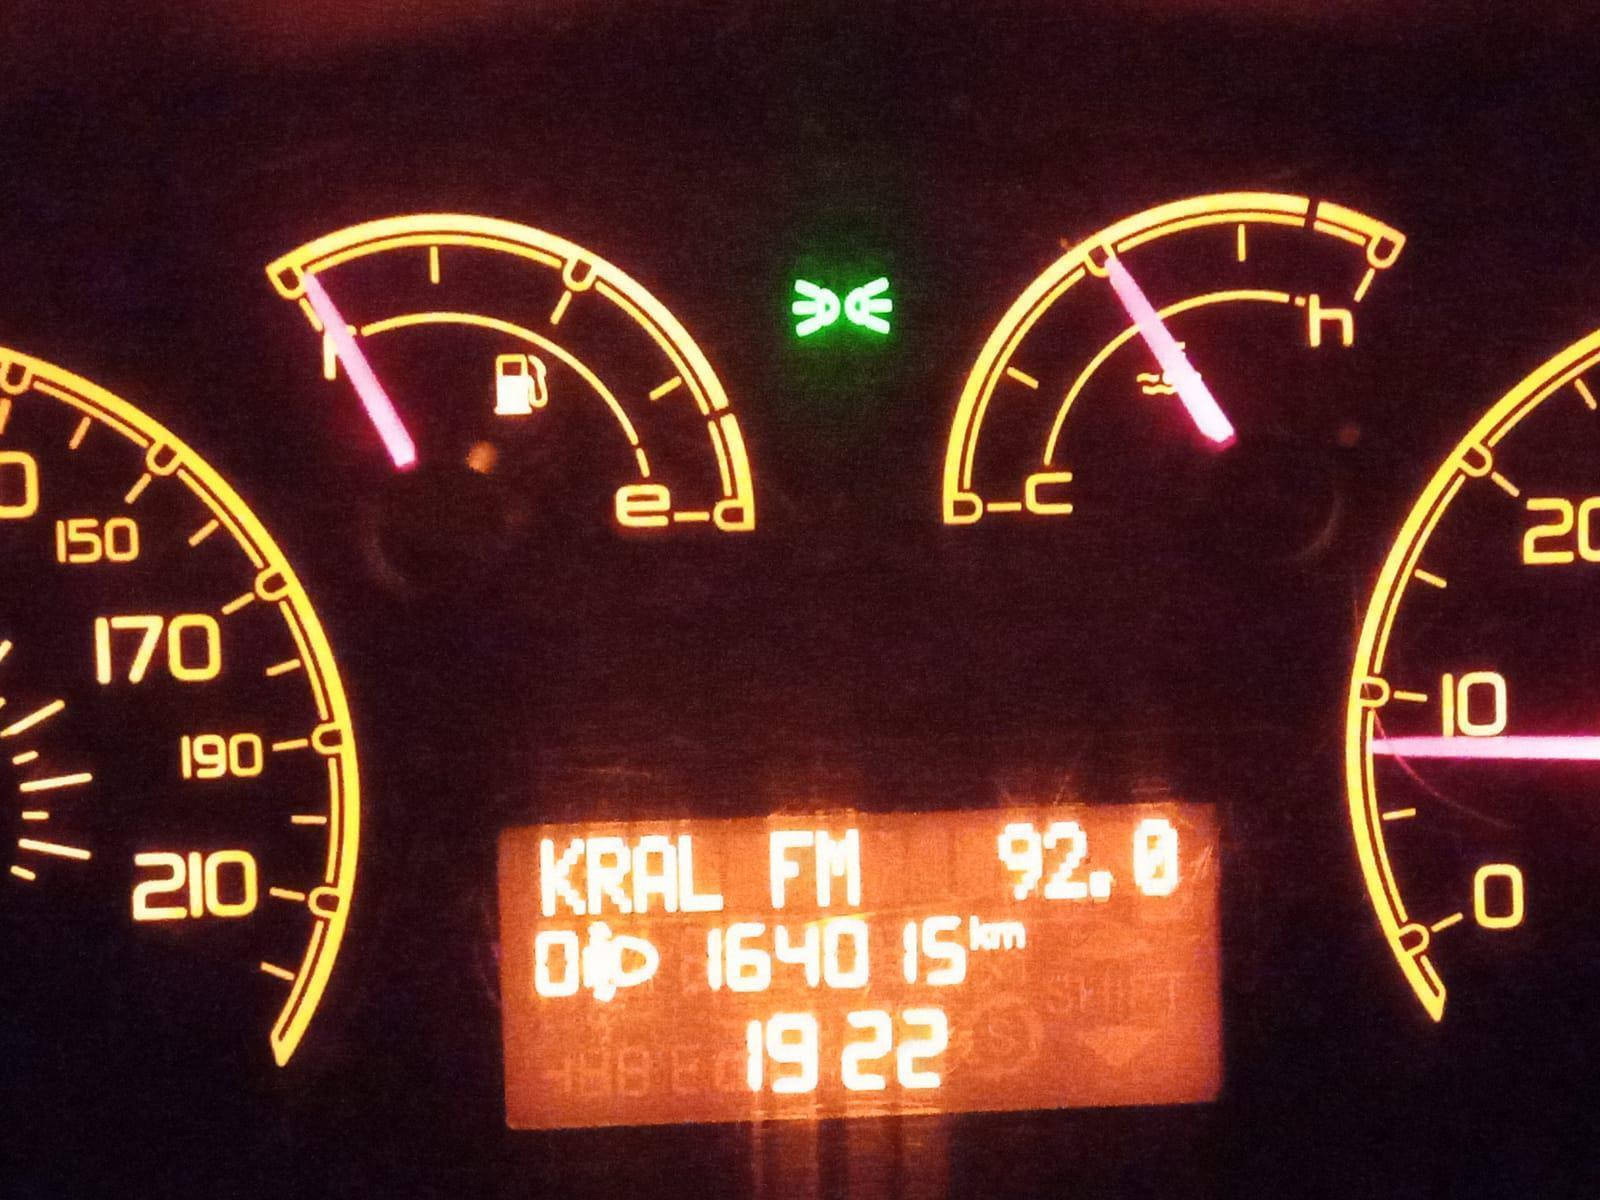,: (1087, 868, 1119, 903)
0: (1131, 816, 1182, 899), (821, 916, 868, 991), (533, 928, 580, 998)
1: (745, 1018, 762, 1093), (900, 918, 918, 986), (706, 926, 724, 992)
2: (840, 1008, 892, 1092), (897, 1008, 947, 1087), (1042, 821, 1089, 900)
4: (774, 923, 820, 989)
5: (923, 915, 965, 984)
6: (726, 921, 770, 993)
9: (765, 1010, 821, 1097), (995, 821, 1042, 899)
X: (535, 836, 585, 920), (677, 829, 726, 914), (816, 826, 867, 904), (631, 829, 677, 914), (586, 832, 631, 915), (769, 827, 814, 909), (991, 919, 1026, 950), (968, 913, 991, 953)
odometer: (480, 798, 1249, 1131)
